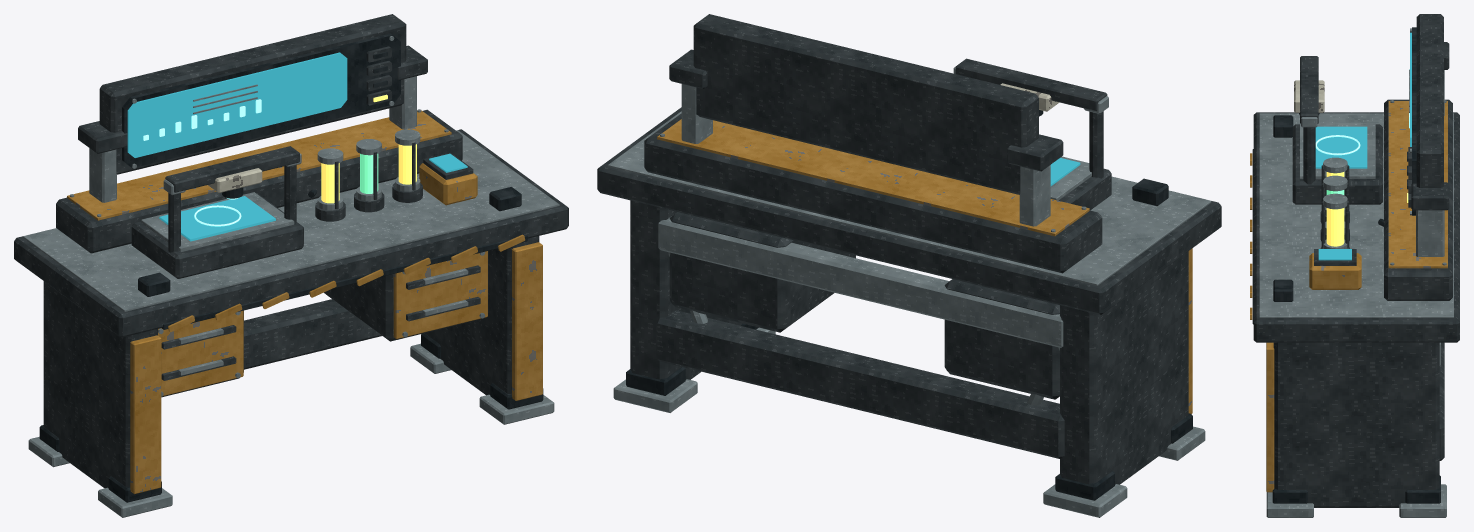
The model's file is research_workstation.glb.
3 renders of one model, left to right at view 1: azimuth 30°, elevation 25°; view 2: azimuth 150°, elevation 25°; view 3: azimuth 270°, elevation 25°, orthographic. The views are drawn at different scales.
Parts seen in each view (by area): view 1: research_workstation; view 2: research_workstation; view 3: research_workstation.
Part boxes in pixels (bbox=[...]): research_workstation: bbox=[14, 14, 568, 517]; research_workstation: bbox=[597, 14, 1221, 517]; research_workstation: bbox=[1250, 14, 1459, 517].
Size of the model in its own units: 2.1 by 1.56 by 0.885.
9 materials, 5 textured.
